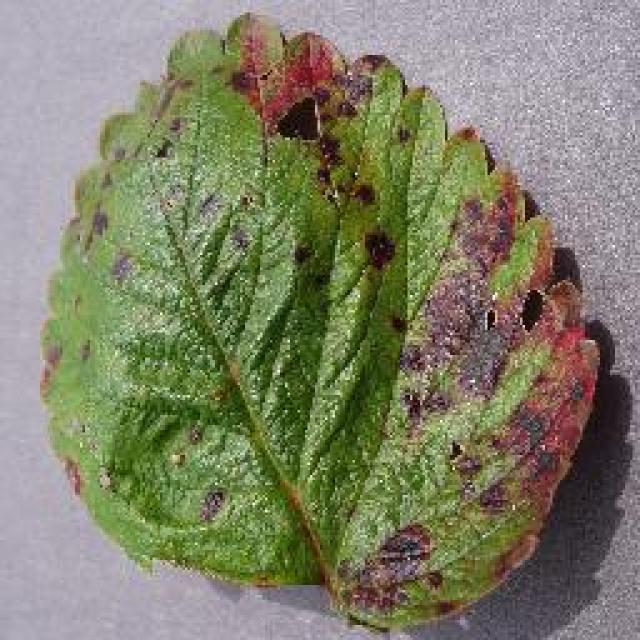Strawberry___Leaf_scorch: (22, 2, 618, 640)
